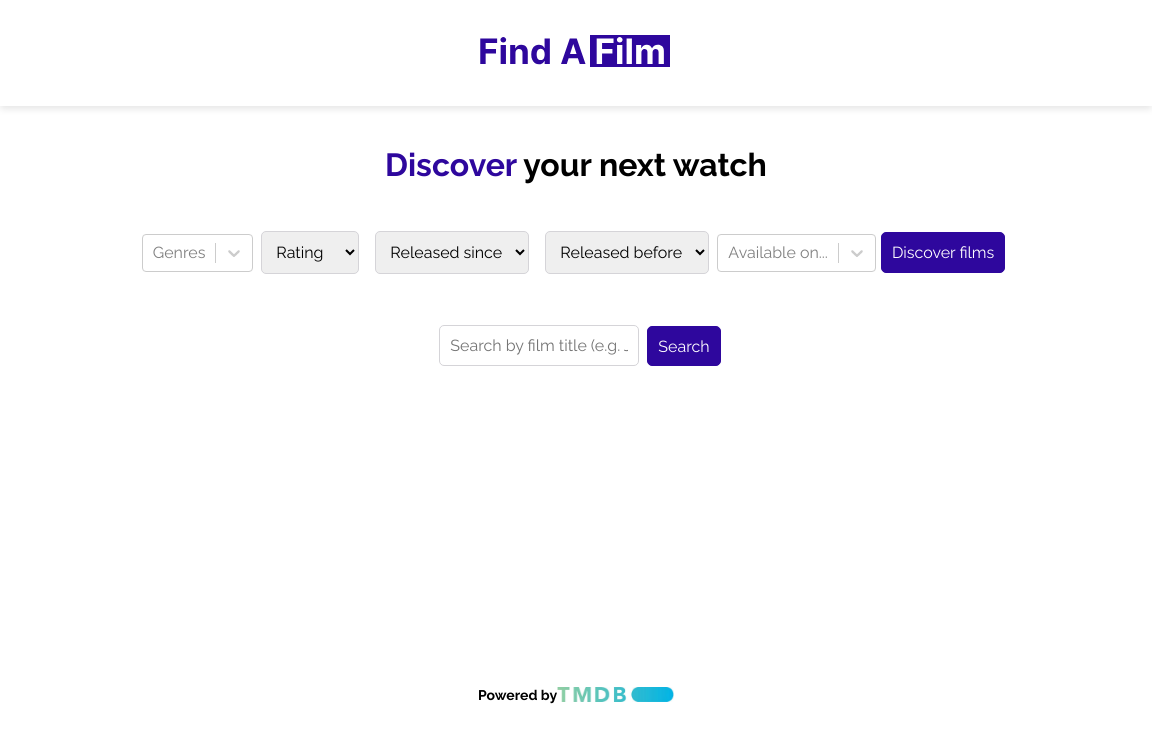
Conducting a search › displays custom message when search contains no user input
Expected: the form with class "searchbar" is shown, x1=431 y1=317 x2=720 y2=374
Step 1. Click the button with class "searchbar__submit" → coordinates (684, 346), box x1=647 y1=326 x2=720 y2=366
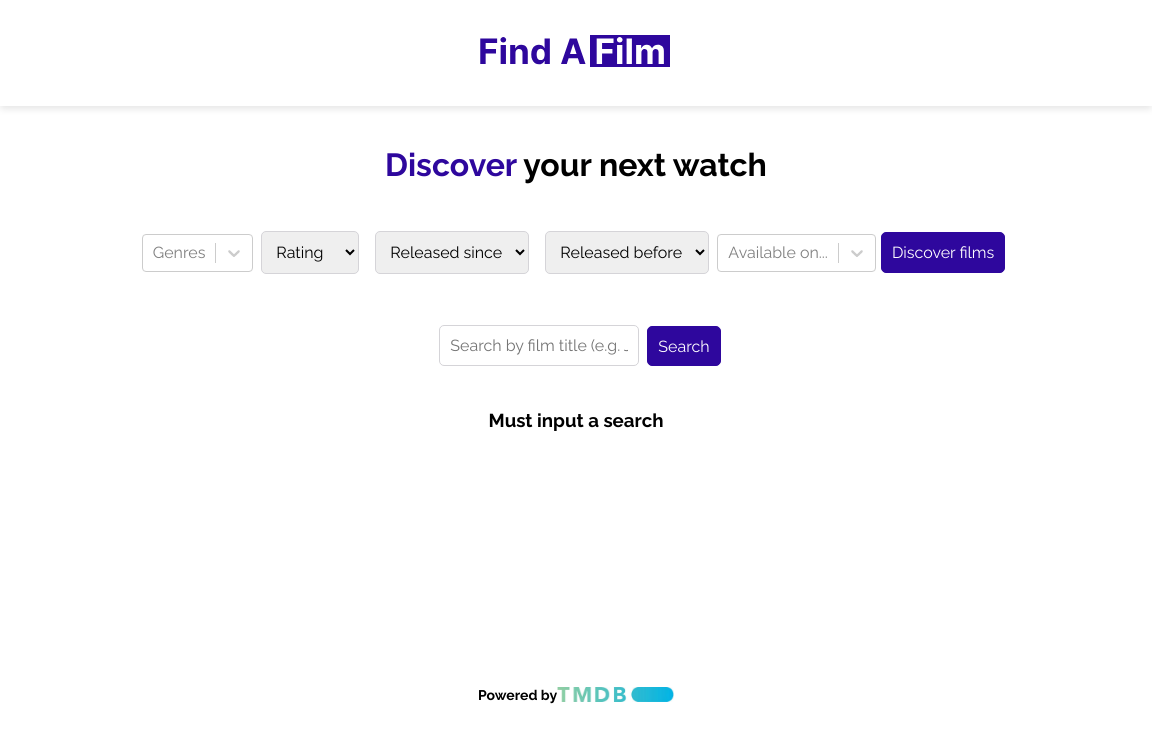
Result: the heading "Must input a search" is shown at x1=488 y1=409 x2=664 y2=431
